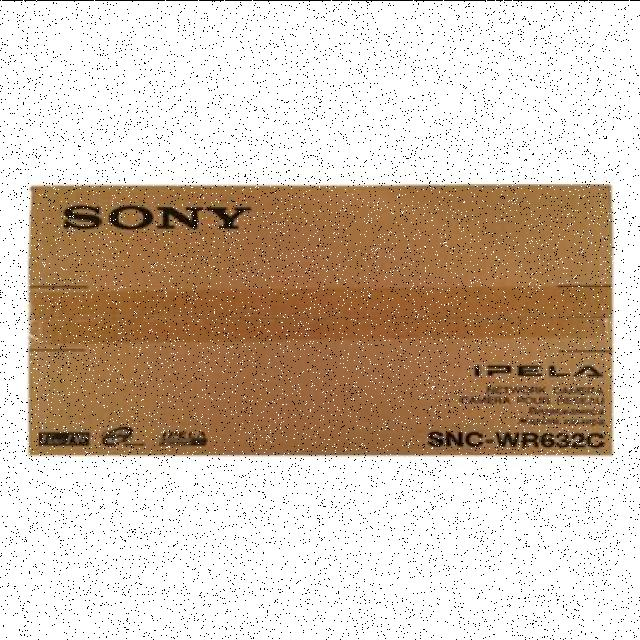normal: (23, 178, 617, 464)
